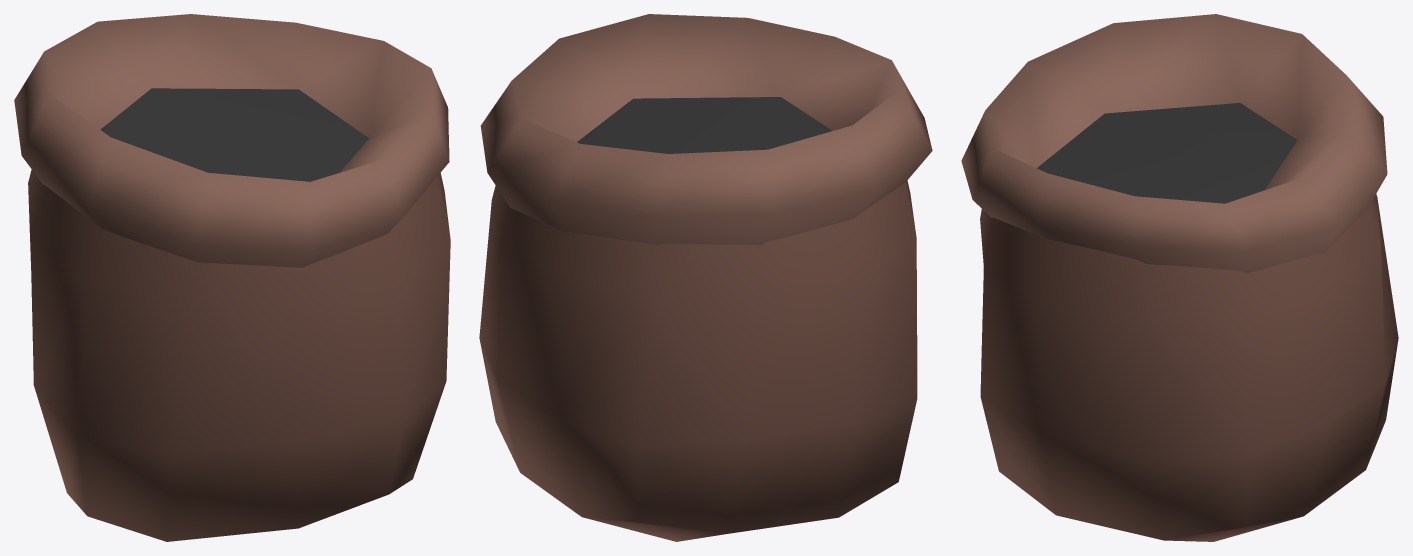
The model's file is bag_004.glb.
The picture shows the model from 3 angles, left to right: view 1: azimuth 30°, elevation 25°; view 2: azimuth 150°, elevation 25°; view 3: azimuth 270°, elevation 25°; orthographic projection. The views are drawn at different scales.
Parts seen in each view (by area): view 1: bag_004; view 2: bag_004; view 3: bag_004.
Part boxes in pixels (box(x1,y1,x2,y2)): bag_004: box(14, 14, 450, 541); bag_004: box(479, 14, 932, 541); bag_004: box(961, 14, 1398, 541).
Bounding box in the file's own units: 0.5327 × 0.5712 × 0.5514.
Materials: 1 (1 with a texture image).
